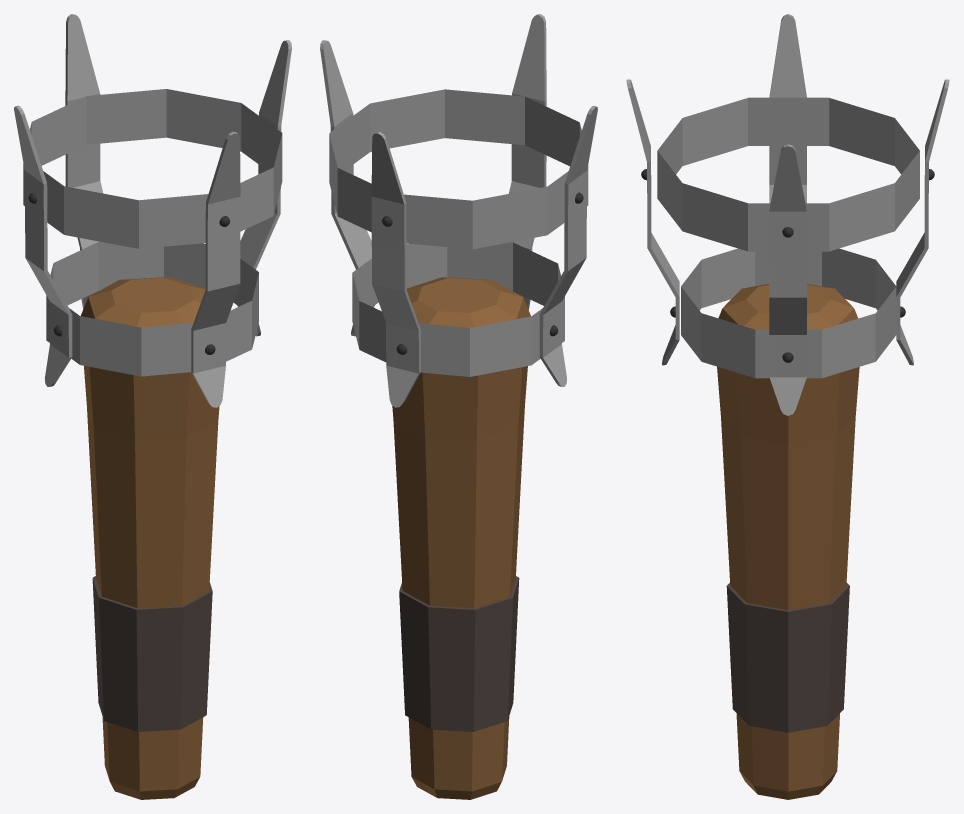
File: torch.obj
The picture shows the model from 3 angles, left to right: view 1: azimuth 30°, elevation 25°; view 2: azimuth 150°, elevation 25°; view 3: azimuth 270°, elevation 25°; orthographic projection.
Visible parts, largest first — view 1: torch; view 2: torch; view 3: torch.
Boxes of the visible parts, x1,y1,x2,y2 form: torch: [14, 14, 291, 799]; torch: [320, 14, 597, 799]; torch: [626, 14, 949, 799].
Size of the model in its own units: 0.0964 by 0.2401 by 0.0996.
